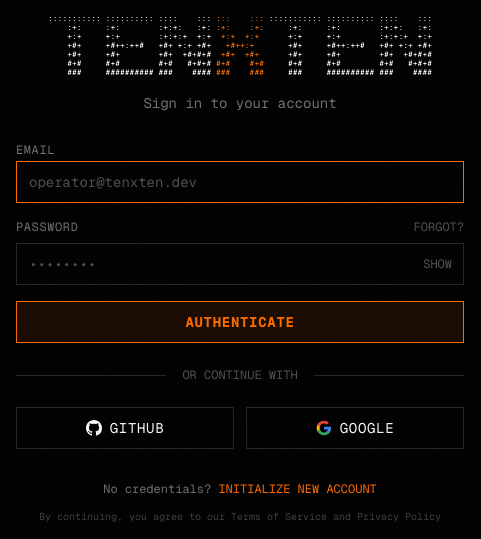
it: Login Page › should toggle password visibility
Click the button "SHOW" at (438, 264), box [423,256,452,272]
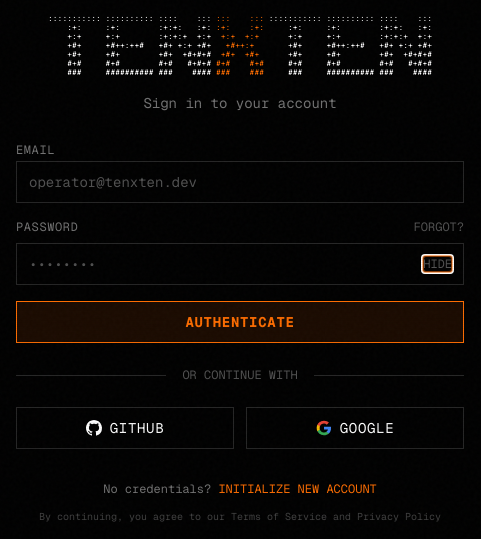
Now the button "HIDE" is shown, box [423,256,452,272]
